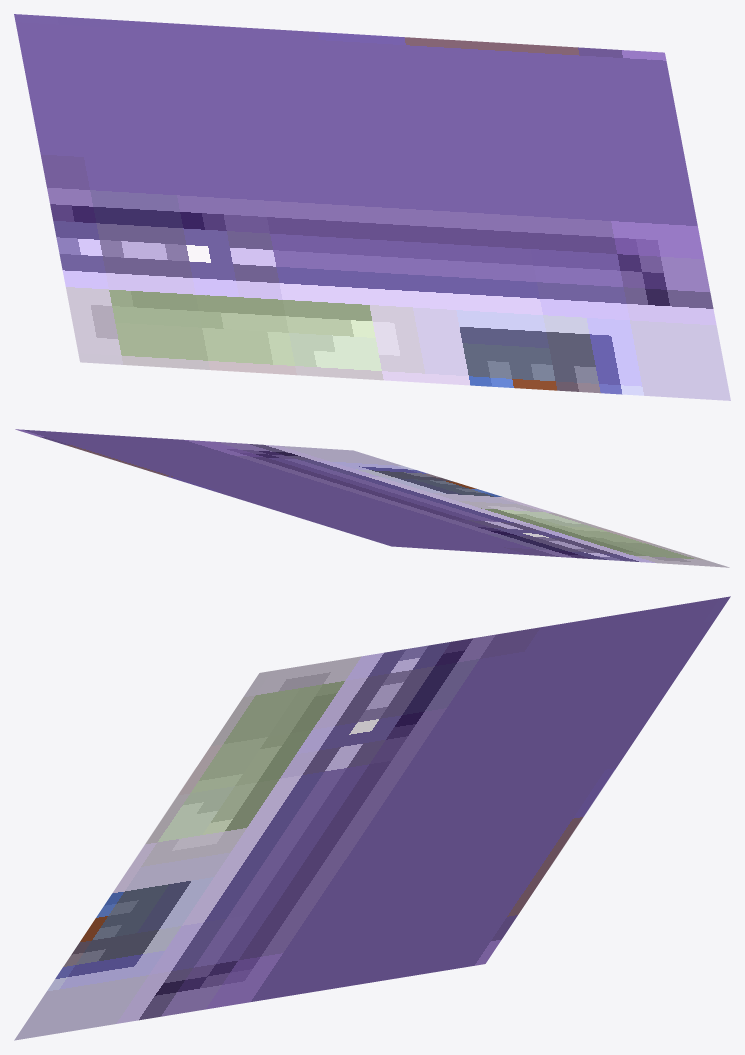
File: fg_villagercard.dae
The picture shows the model from 3 angles, top to bottom: view 1: azimuth 30°, elevation 25°; view 2: azimuth 150°, elevation 25°; view 3: azimuth 270°, elevation 25°; orthographic projection. The views are drawn at different scales.
Parts seen in each view (by area): view 1: fg_villagercard; view 2: fg_villagercard; view 3: fg_villagercard.
Boxes of the visible parts, left/top/right/bottom form: fg_villagercard: left=14, top=14, right=730, bottom=400; fg_villagercard: left=15, top=429, right=729, bottom=567; fg_villagercard: left=14, top=596, right=730, bottom=1040.
Bounding box in the file's own units: 14.48 × 4.66 × 12.24.
Materials: 1 (1 with a texture image).
